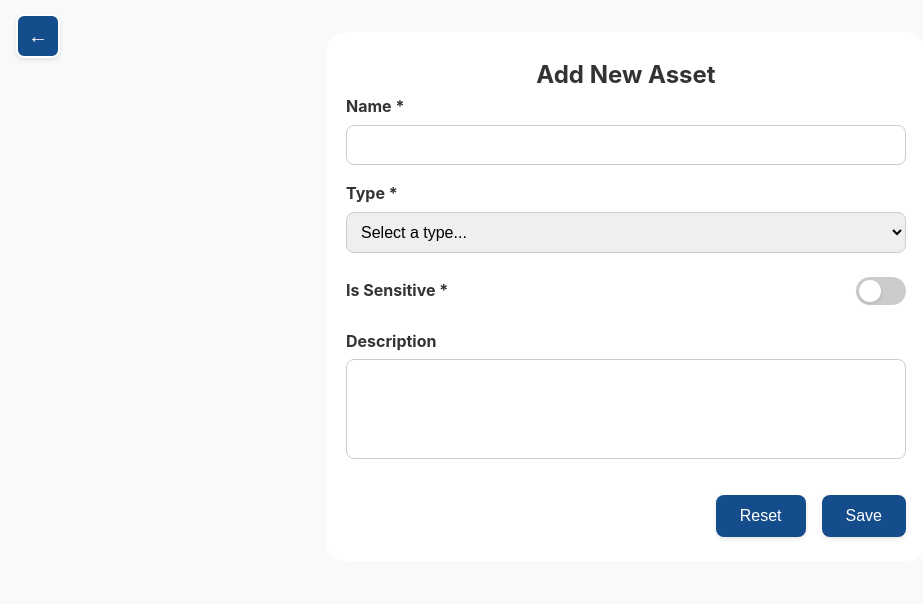
Test: AssetFormView › shows validation errors when submitting empty form
Click the button "Save" at (864, 516), box [822, 495, 906, 537]
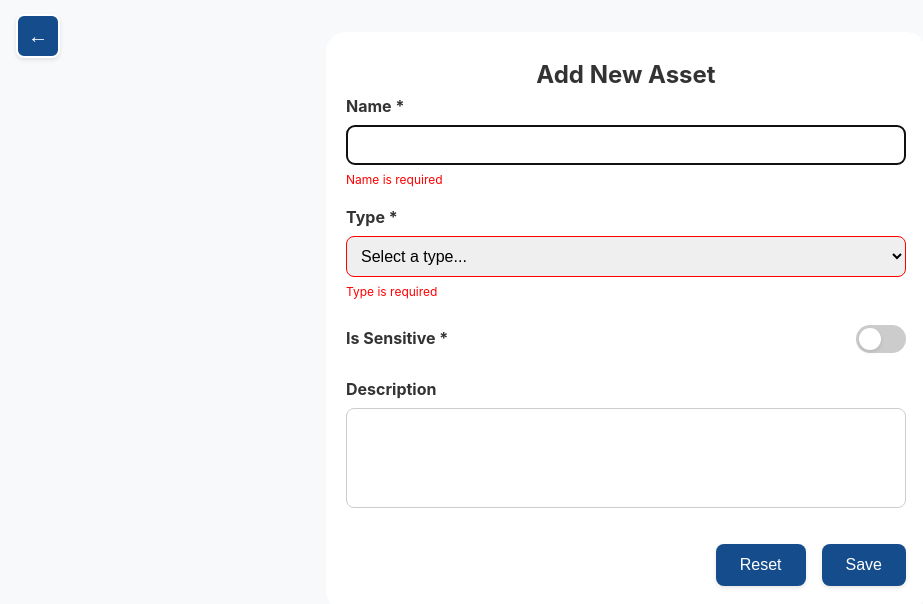
Expected: the text "Name is required" is shown, [346, 172, 443, 187]
Expected: the text "Type is required" is shown, [346, 284, 437, 299]
